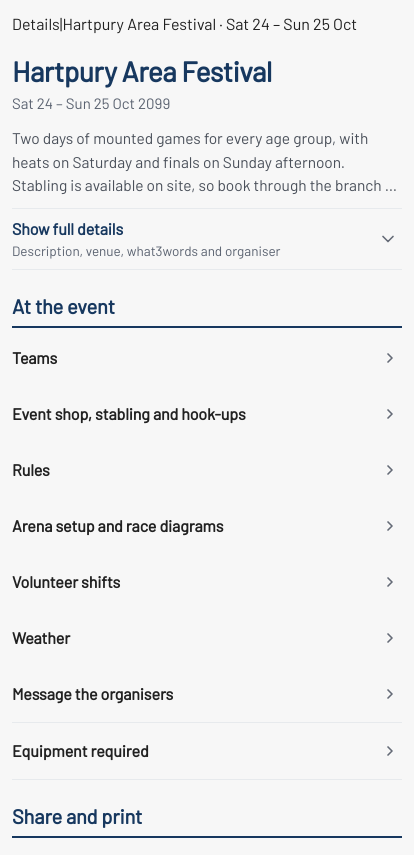
Test: DetailsTab › has no Getting there section: the venue, postcode and what3words sit inside Show full details, closed by default
Check: the heading "Hartpury Area Festival" is shown, box left=12, top=54, right=272, bottom=88
Check: the text "Severn Vale Branch" is not shown
Click the button "Show full details". click: (207, 239)
box: left=12, top=209, right=402, bottom=269
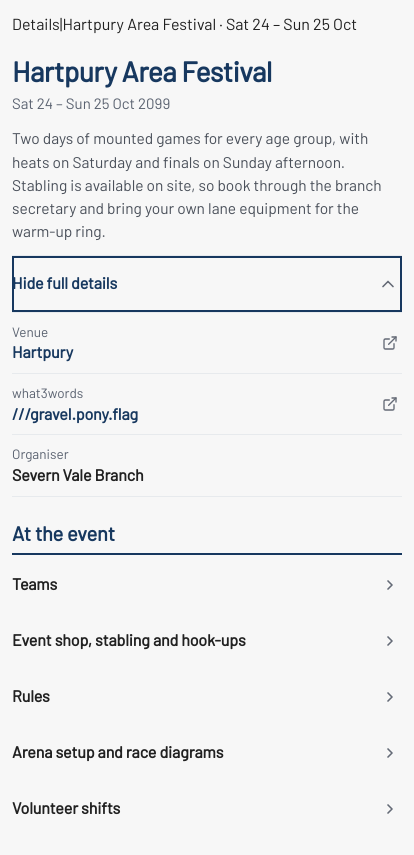
Check: the button "Hide full details" is expanded
Check: the text "Severn Vale Branch" is shown, box left=12, top=465, right=143, bottom=484
Check: the text "Hartpury" is shown once, box left=12, top=342, right=73, bottom=361
Click the button "Hide full details". click: (65, 283)
box: left=12, top=256, right=402, bottom=312
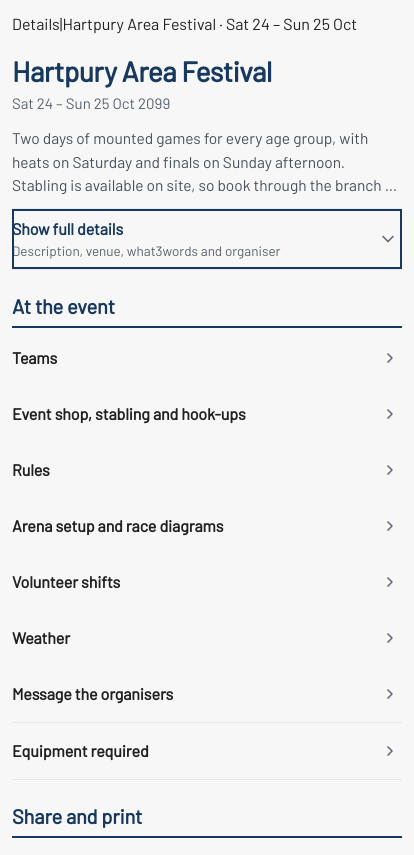
Check: the text "Severn Vale Branch" is gone
Check: the button "Show full details" is collapsed, box left=12, top=209, right=402, bottom=269
